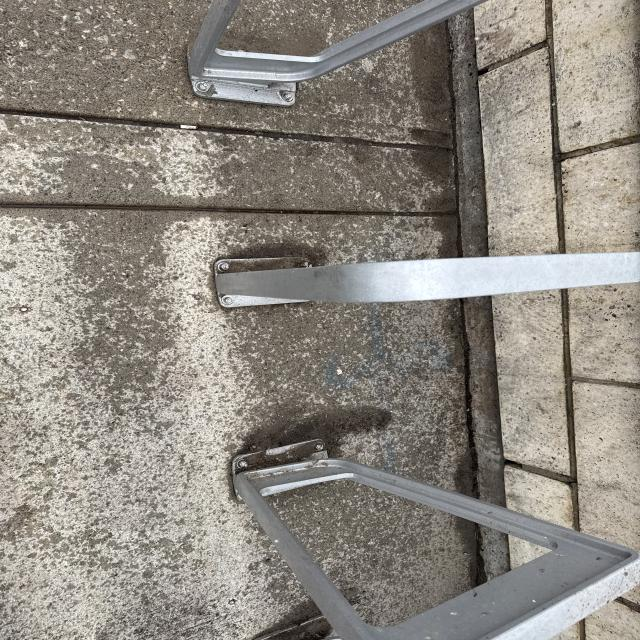Bicycle Rack: (229, 438, 640, 640), (214, 239, 636, 313), (188, 0, 470, 107)
